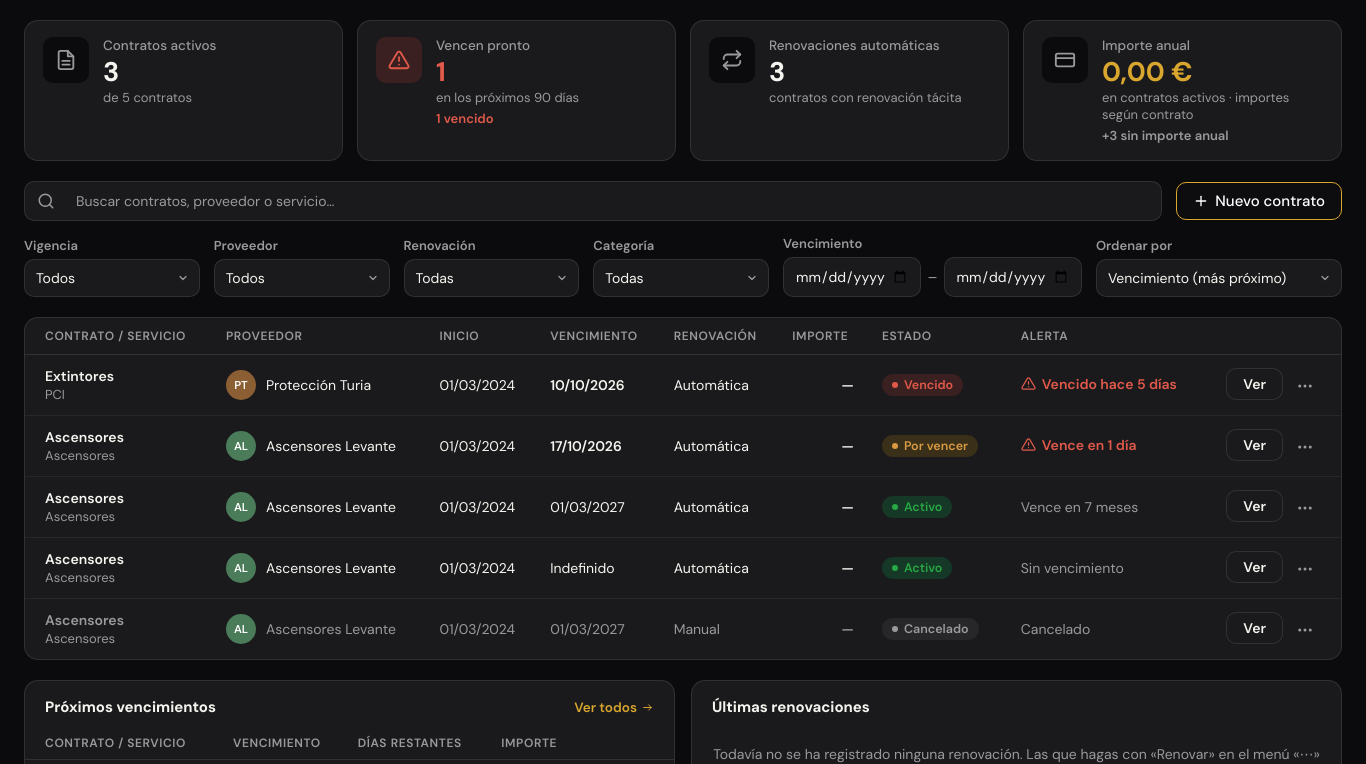
ContractsTabComponent › gestión de contratos (D1, D2, D3) › editar desde «⋯» abre el formulario con el contrato y al guardar recarga la lista y avisa
Click the button with class "table__more" in the row of "Vence en 7 meses" at (1305, 508), box [1289,492,1321,524]
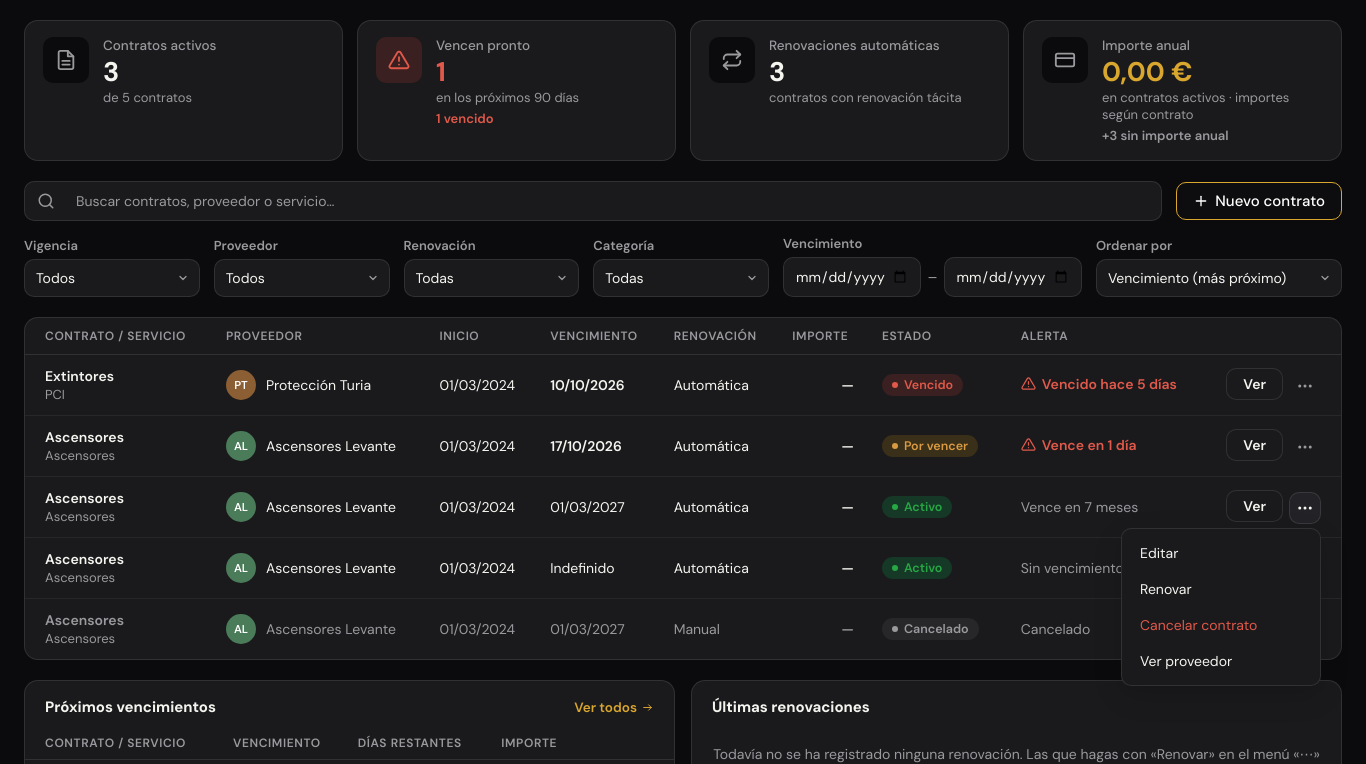
Click the menu item "Editar" at (1221, 553), box [1128,535,1314,571]
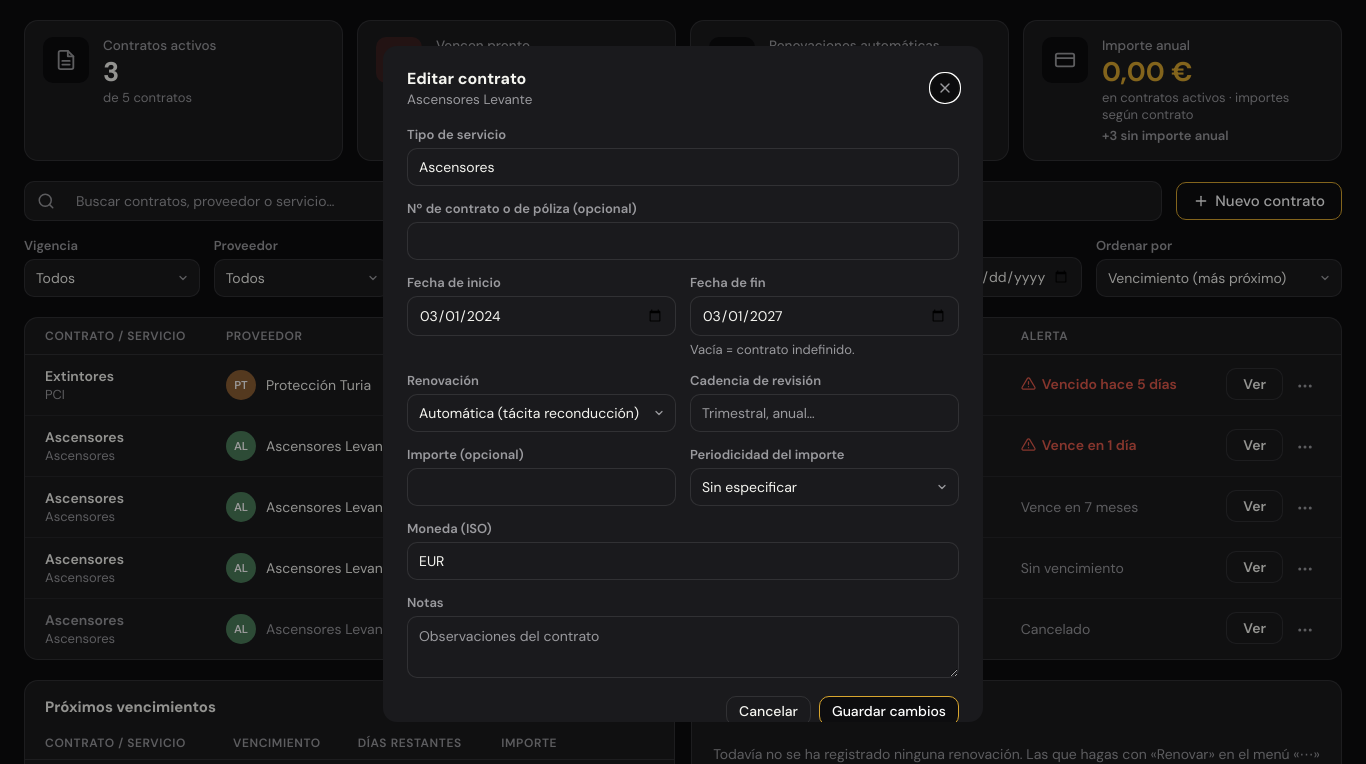
Expected: the heading with id "cf-title" reads "Editar contrato", [407,68,526,89]
Submit the form, box [407,126,959,726]
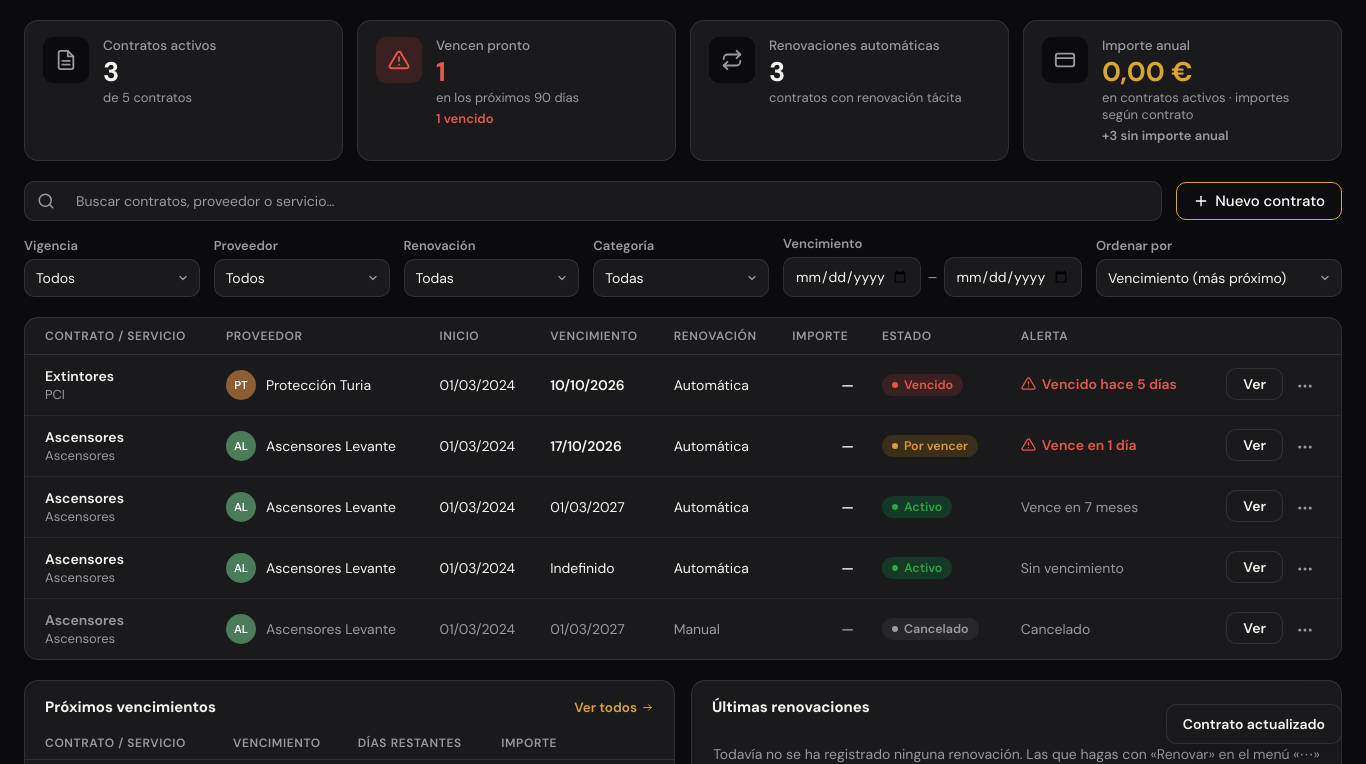
Expected: the message with class "contracts__toast" reads "Contrato actualizado", [1183,715,1325,733]
